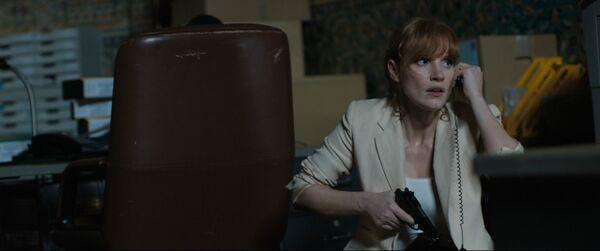Gun: (393, 189, 441, 246)
